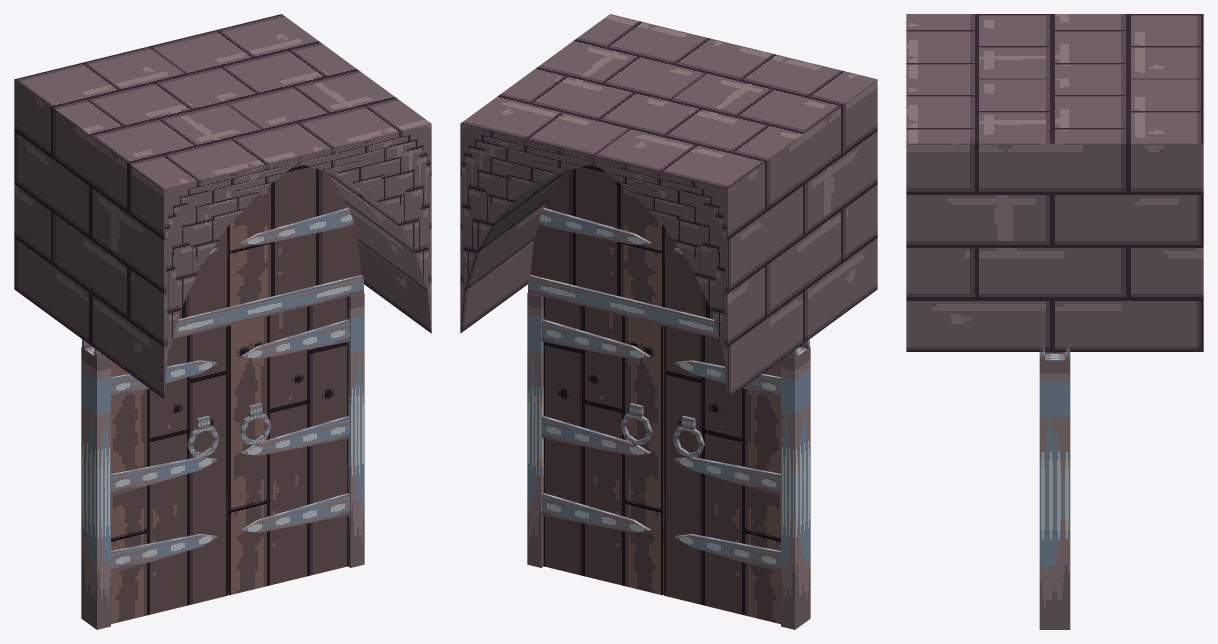
Rendered from door_normal.glb.
3 renders of one model, left to right at view 1: azimuth 30°, elevation 25°; view 2: azimuth 150°, elevation 25°; view 3: azimuth 270°, elevation 25°, orthographic.
Parts seen in each view (by area): view 1: portal, leaf_a, leaf_b; view 2: portal, leaf_a, leaf_b; view 3: portal.
Boxes of the visible parts, x1,y1,x2,y2 form: portal: [14, 14, 431, 629]; leaf_a: [227, 296, 349, 595]; leaf_b: [111, 326, 227, 624]; portal: [460, 14, 877, 629]; leaf_a: [542, 296, 664, 595]; leaf_b: [664, 326, 780, 624]; portal: [906, 14, 1203, 629].
Bounding box in the file's own units: 2 × 3.5 × 1.94.
Materials: 1 (1 with a texture image).
